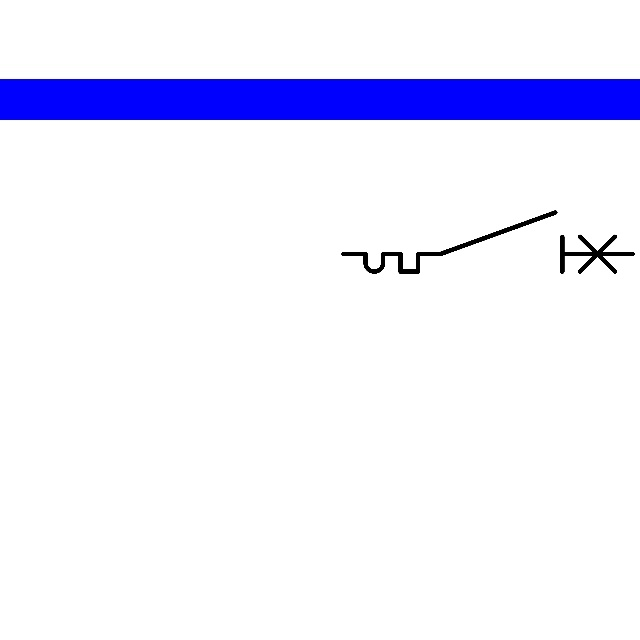interruptor_termomagnetico: (336, 205, 639, 279)
